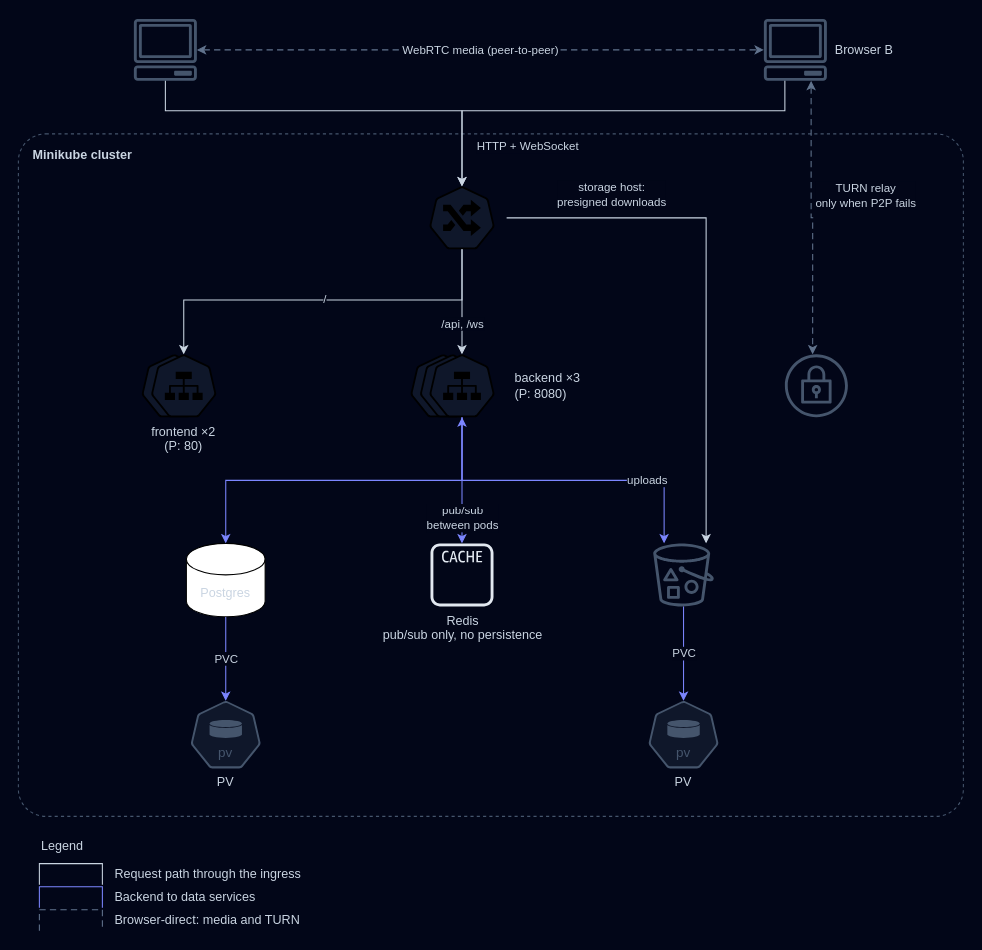
The diagram is 982 pixels wide and 950 high, and some of its shapes have lost their labels. Here are the shapes that lost their labels. From the top down, the box of each, then its label:
(133, 17, 197, 81): Browser A
(416, 185, 507, 249): Ingress (ingress-nginx) nexus-rtc.localhost storage.nexus-rtc.localhost
(771, 353, 861, 417): coturn hostNetwork, UDP 3478
(647, 542, 719, 606): MinIO (S3 API)
